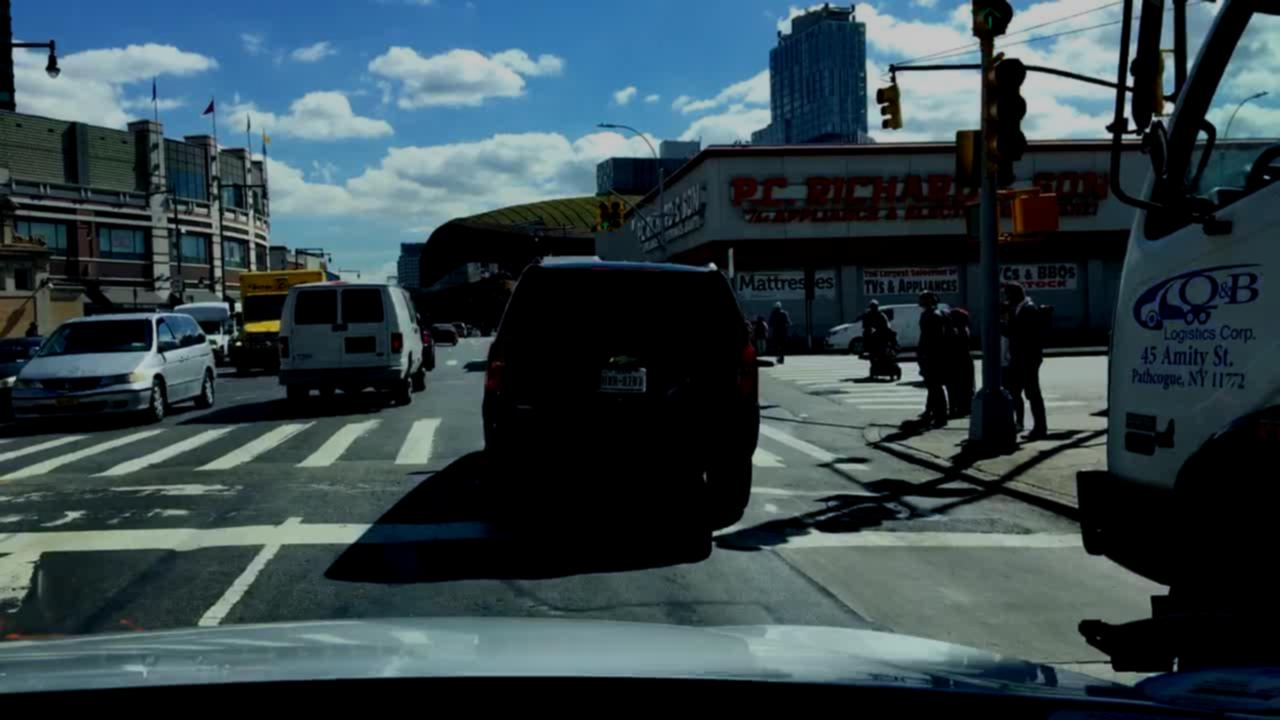chevrolet: (606, 351, 640, 372)
